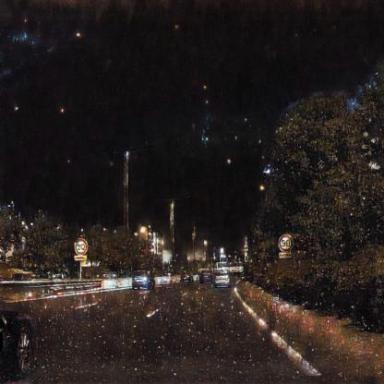Speed_limit_90: (279, 235, 293, 253)
